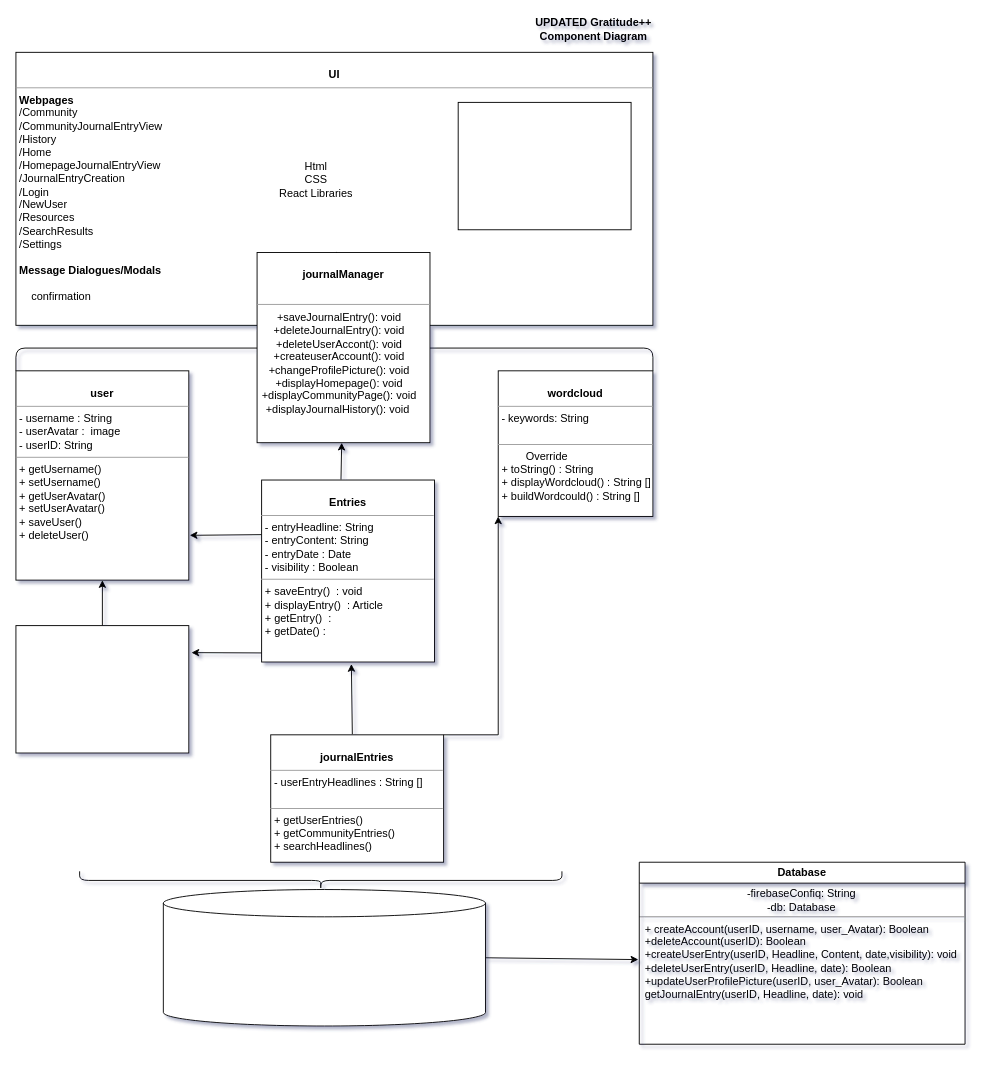
This 986x1074 diagram has some shape labels left out. The shapes that lost their labels are listed below. From the top down, each one's centre as x and y in pixels, then its label:
point (544, 165): authenticationManager Firbase will handle
point (102, 689): users - usernames : String [] - avatar :img + getUsernames() +getAvatar()
point (323, 957): Data Base [Firebase]
